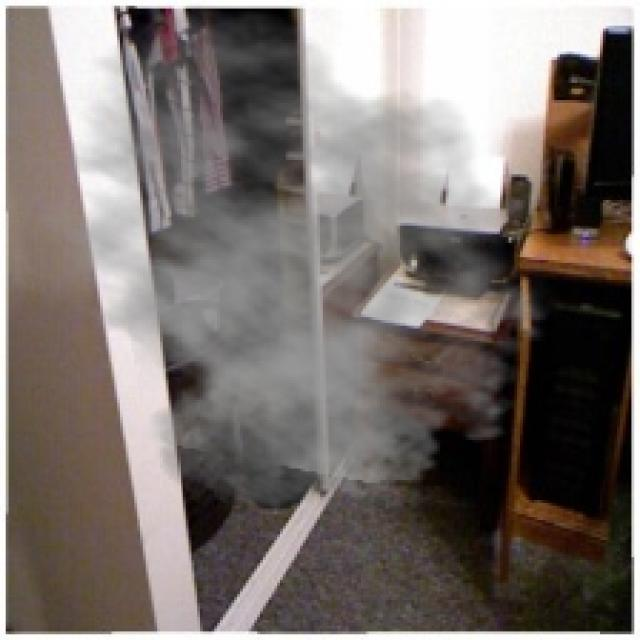Smoke: (14, 3, 569, 523)
